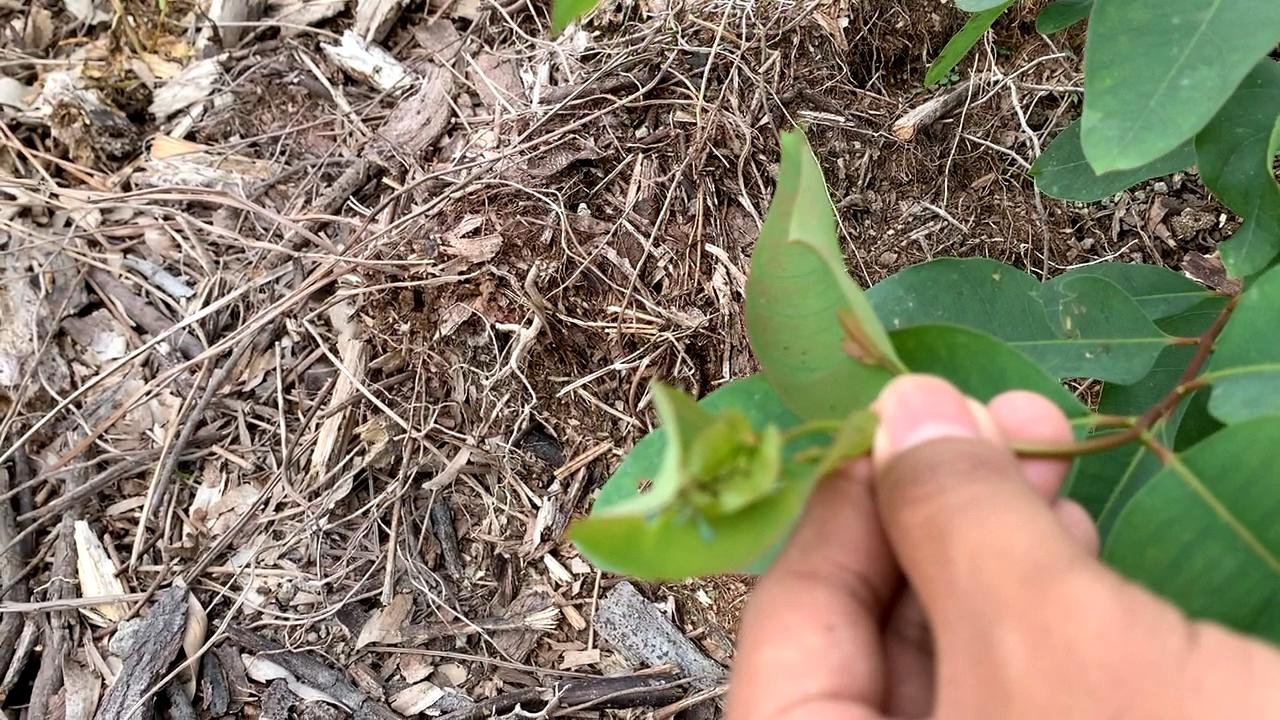Leaf Roller - Leaf: (585, 388, 868, 603)
